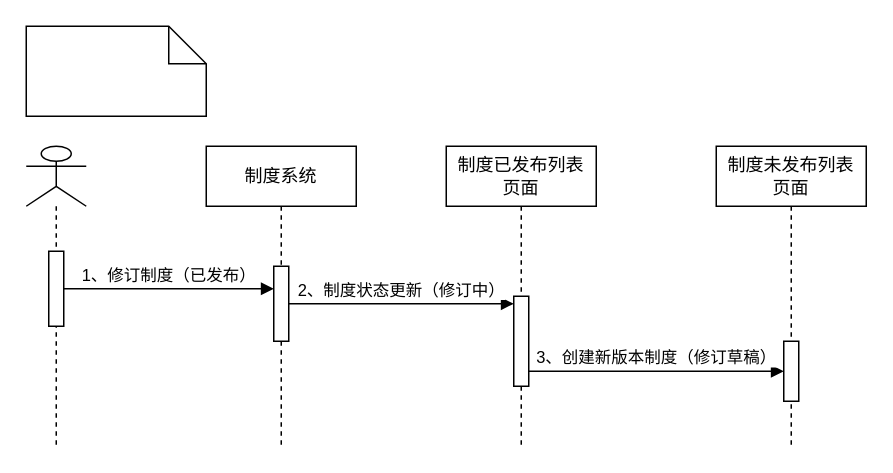
This 893x473 diagram has some shape labels left out. The box of each missing label's shape, as (x1, y1, x2, y2) in pixels:
修订制度: (25, 25, 206, 116)
用户: (25, 145, 86, 446)
